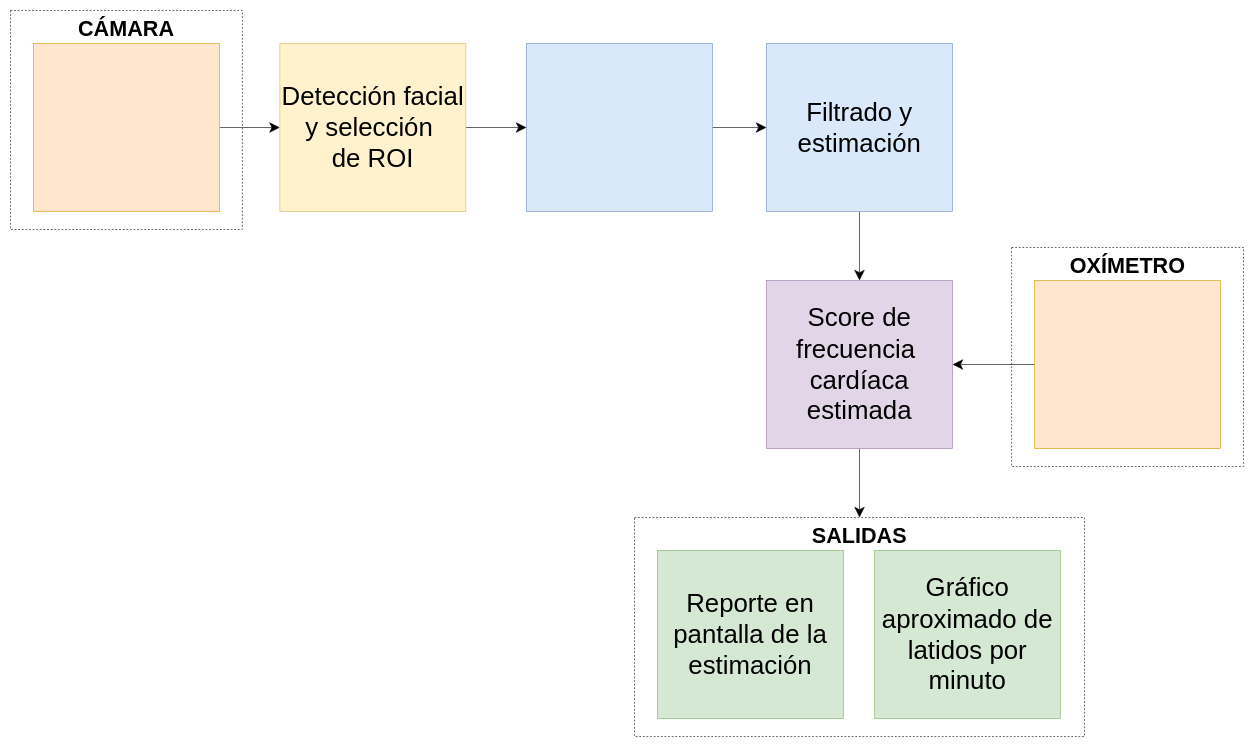
The diagram is 1254 pixels wide and 747 high, and some of its shapes have lost their labels. Each missing label, with the centre of its shape:
"Captura de video facial" goes at (x=126, y=127).
"Extracción de señal rPPG" goes at (x=619, y=127).
"Sensor de referencia" goes at (x=1127, y=364).
